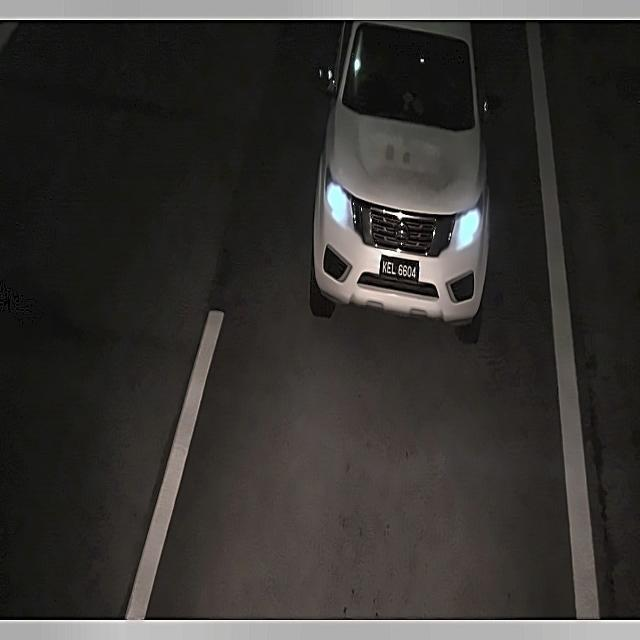car: (374, 250, 424, 290)
